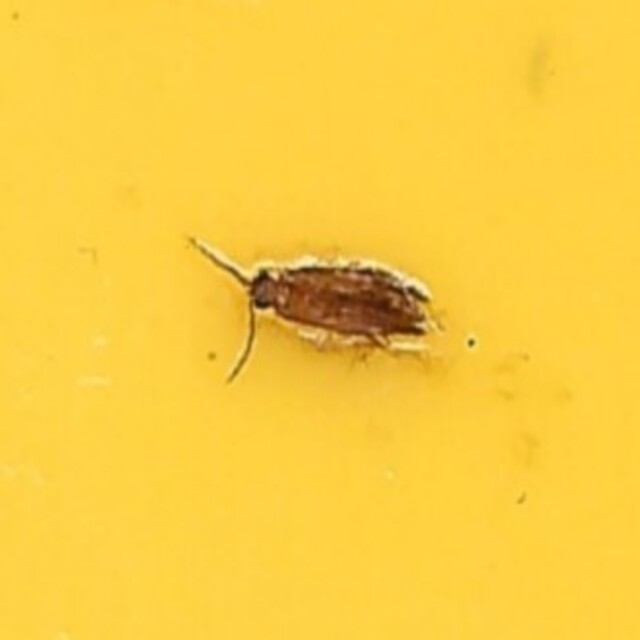Trichoptera: (196, 243, 444, 397)
